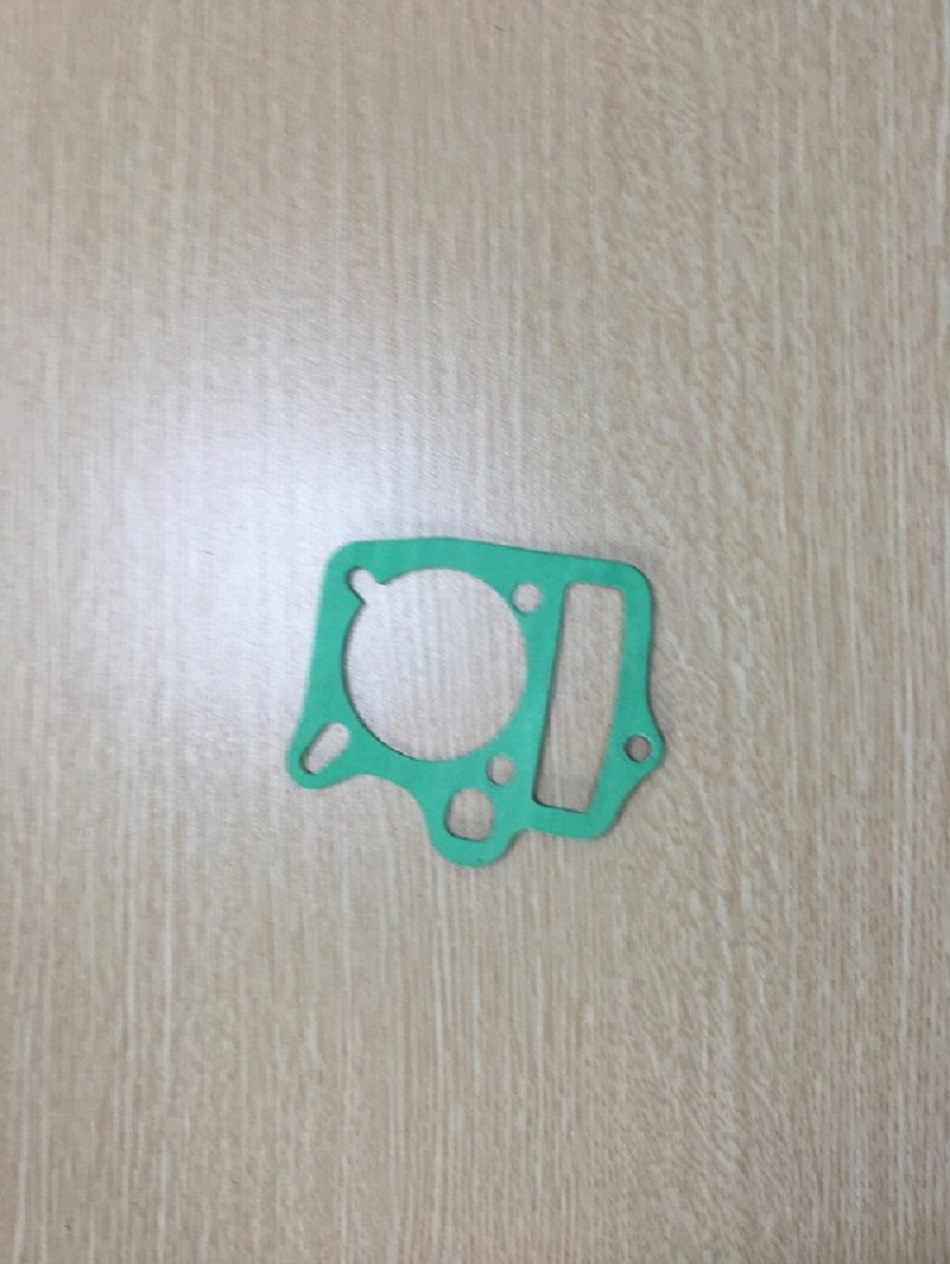circle 1: (331, 543, 548, 770)
circle 2: (422, 774, 518, 883)
circle 3: (283, 712, 358, 785)
circle 4: (504, 566, 564, 647)
circle 5: (616, 720, 683, 785)
circle 6: (520, 570, 633, 841)
object: (231, 507, 760, 935)
